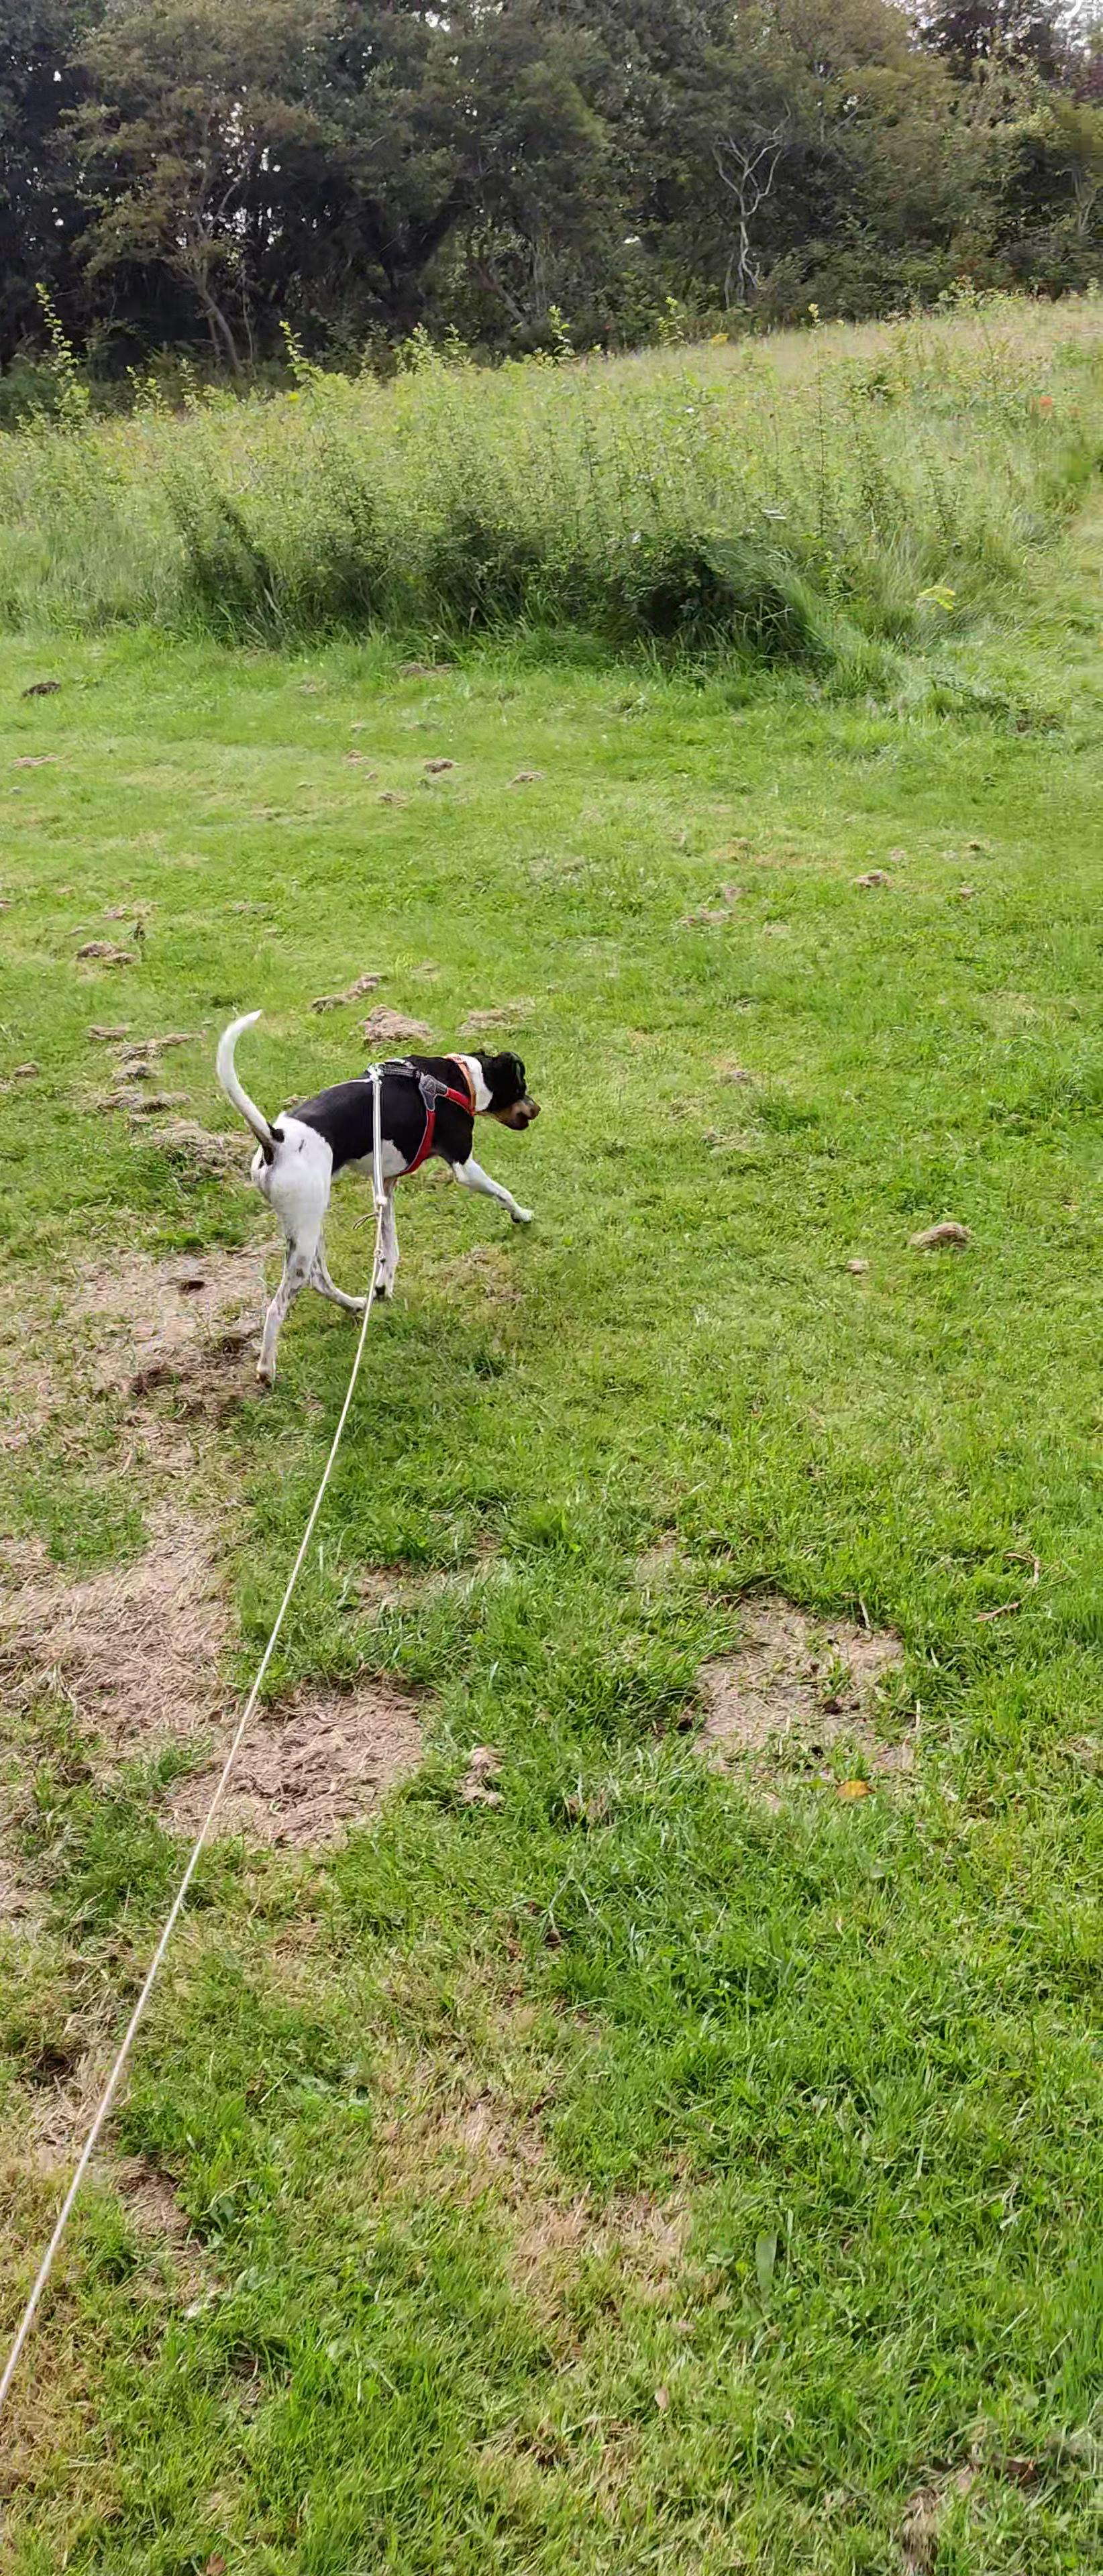Dog: (201, 997, 570, 1400)
